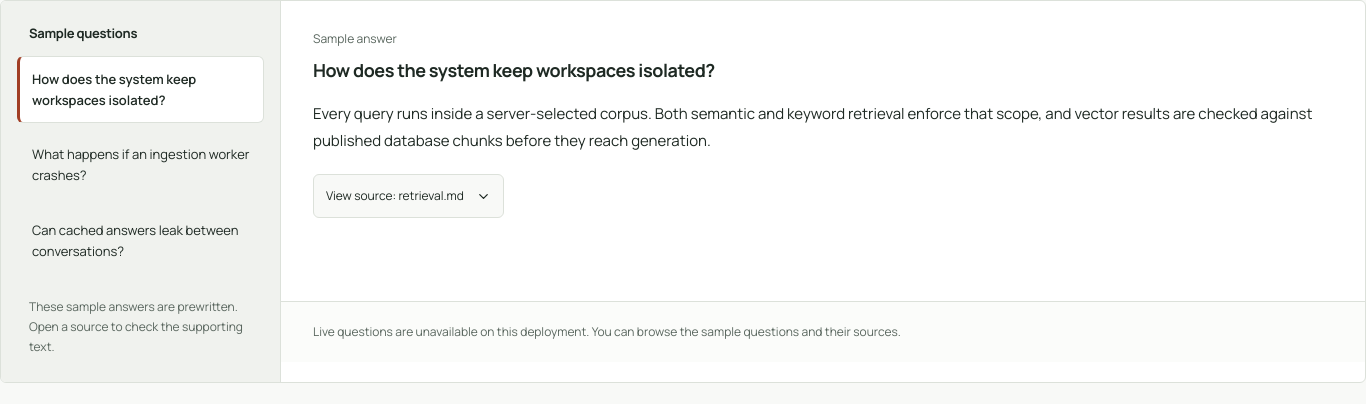
Test case: public demo › labels prewritten answers and exposes the source through an accessible disclosure
Check: the text "Sample answer" is shown, box [313,30,397,47]
Click the button "View source: retrieval.md": (408, 196) [313,174,504,218]
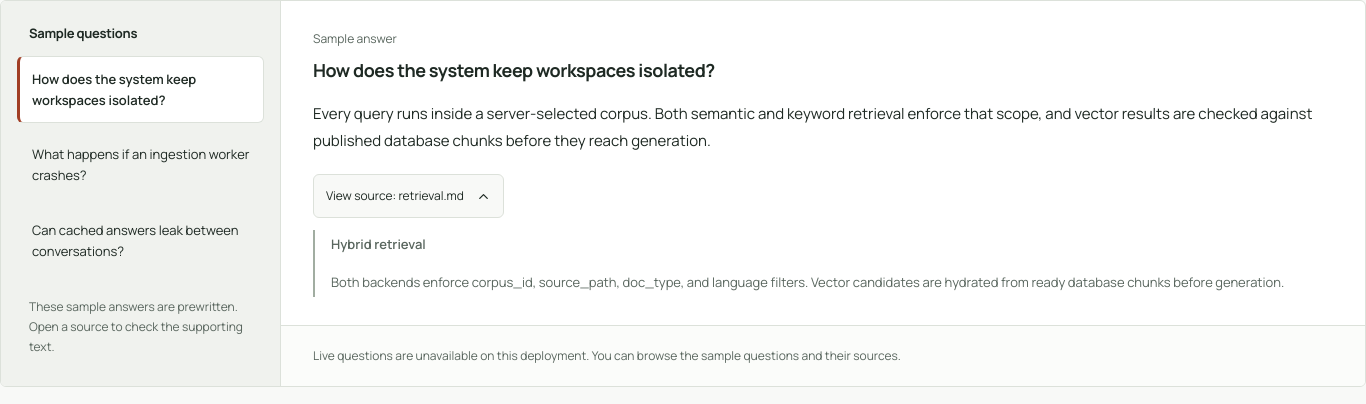
Check: the button "View source: retrieval.md" is expanded
Check: the text "Both backends enforce" is shown, box [331,273,1284,291]
Click the button "View source: retrieval.md": (408, 196) [313,174,504,218]
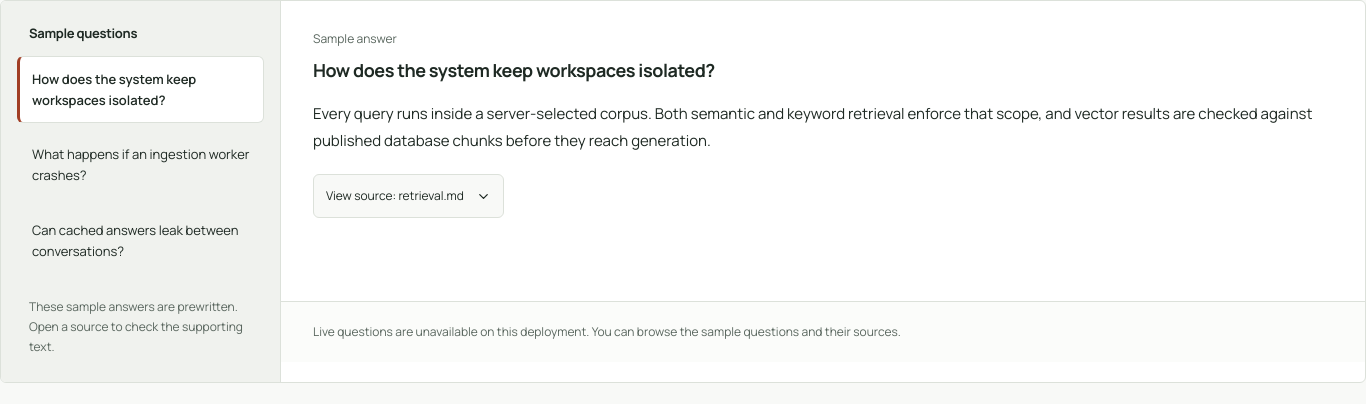
Check: the text "Both backends enforce" is gone
